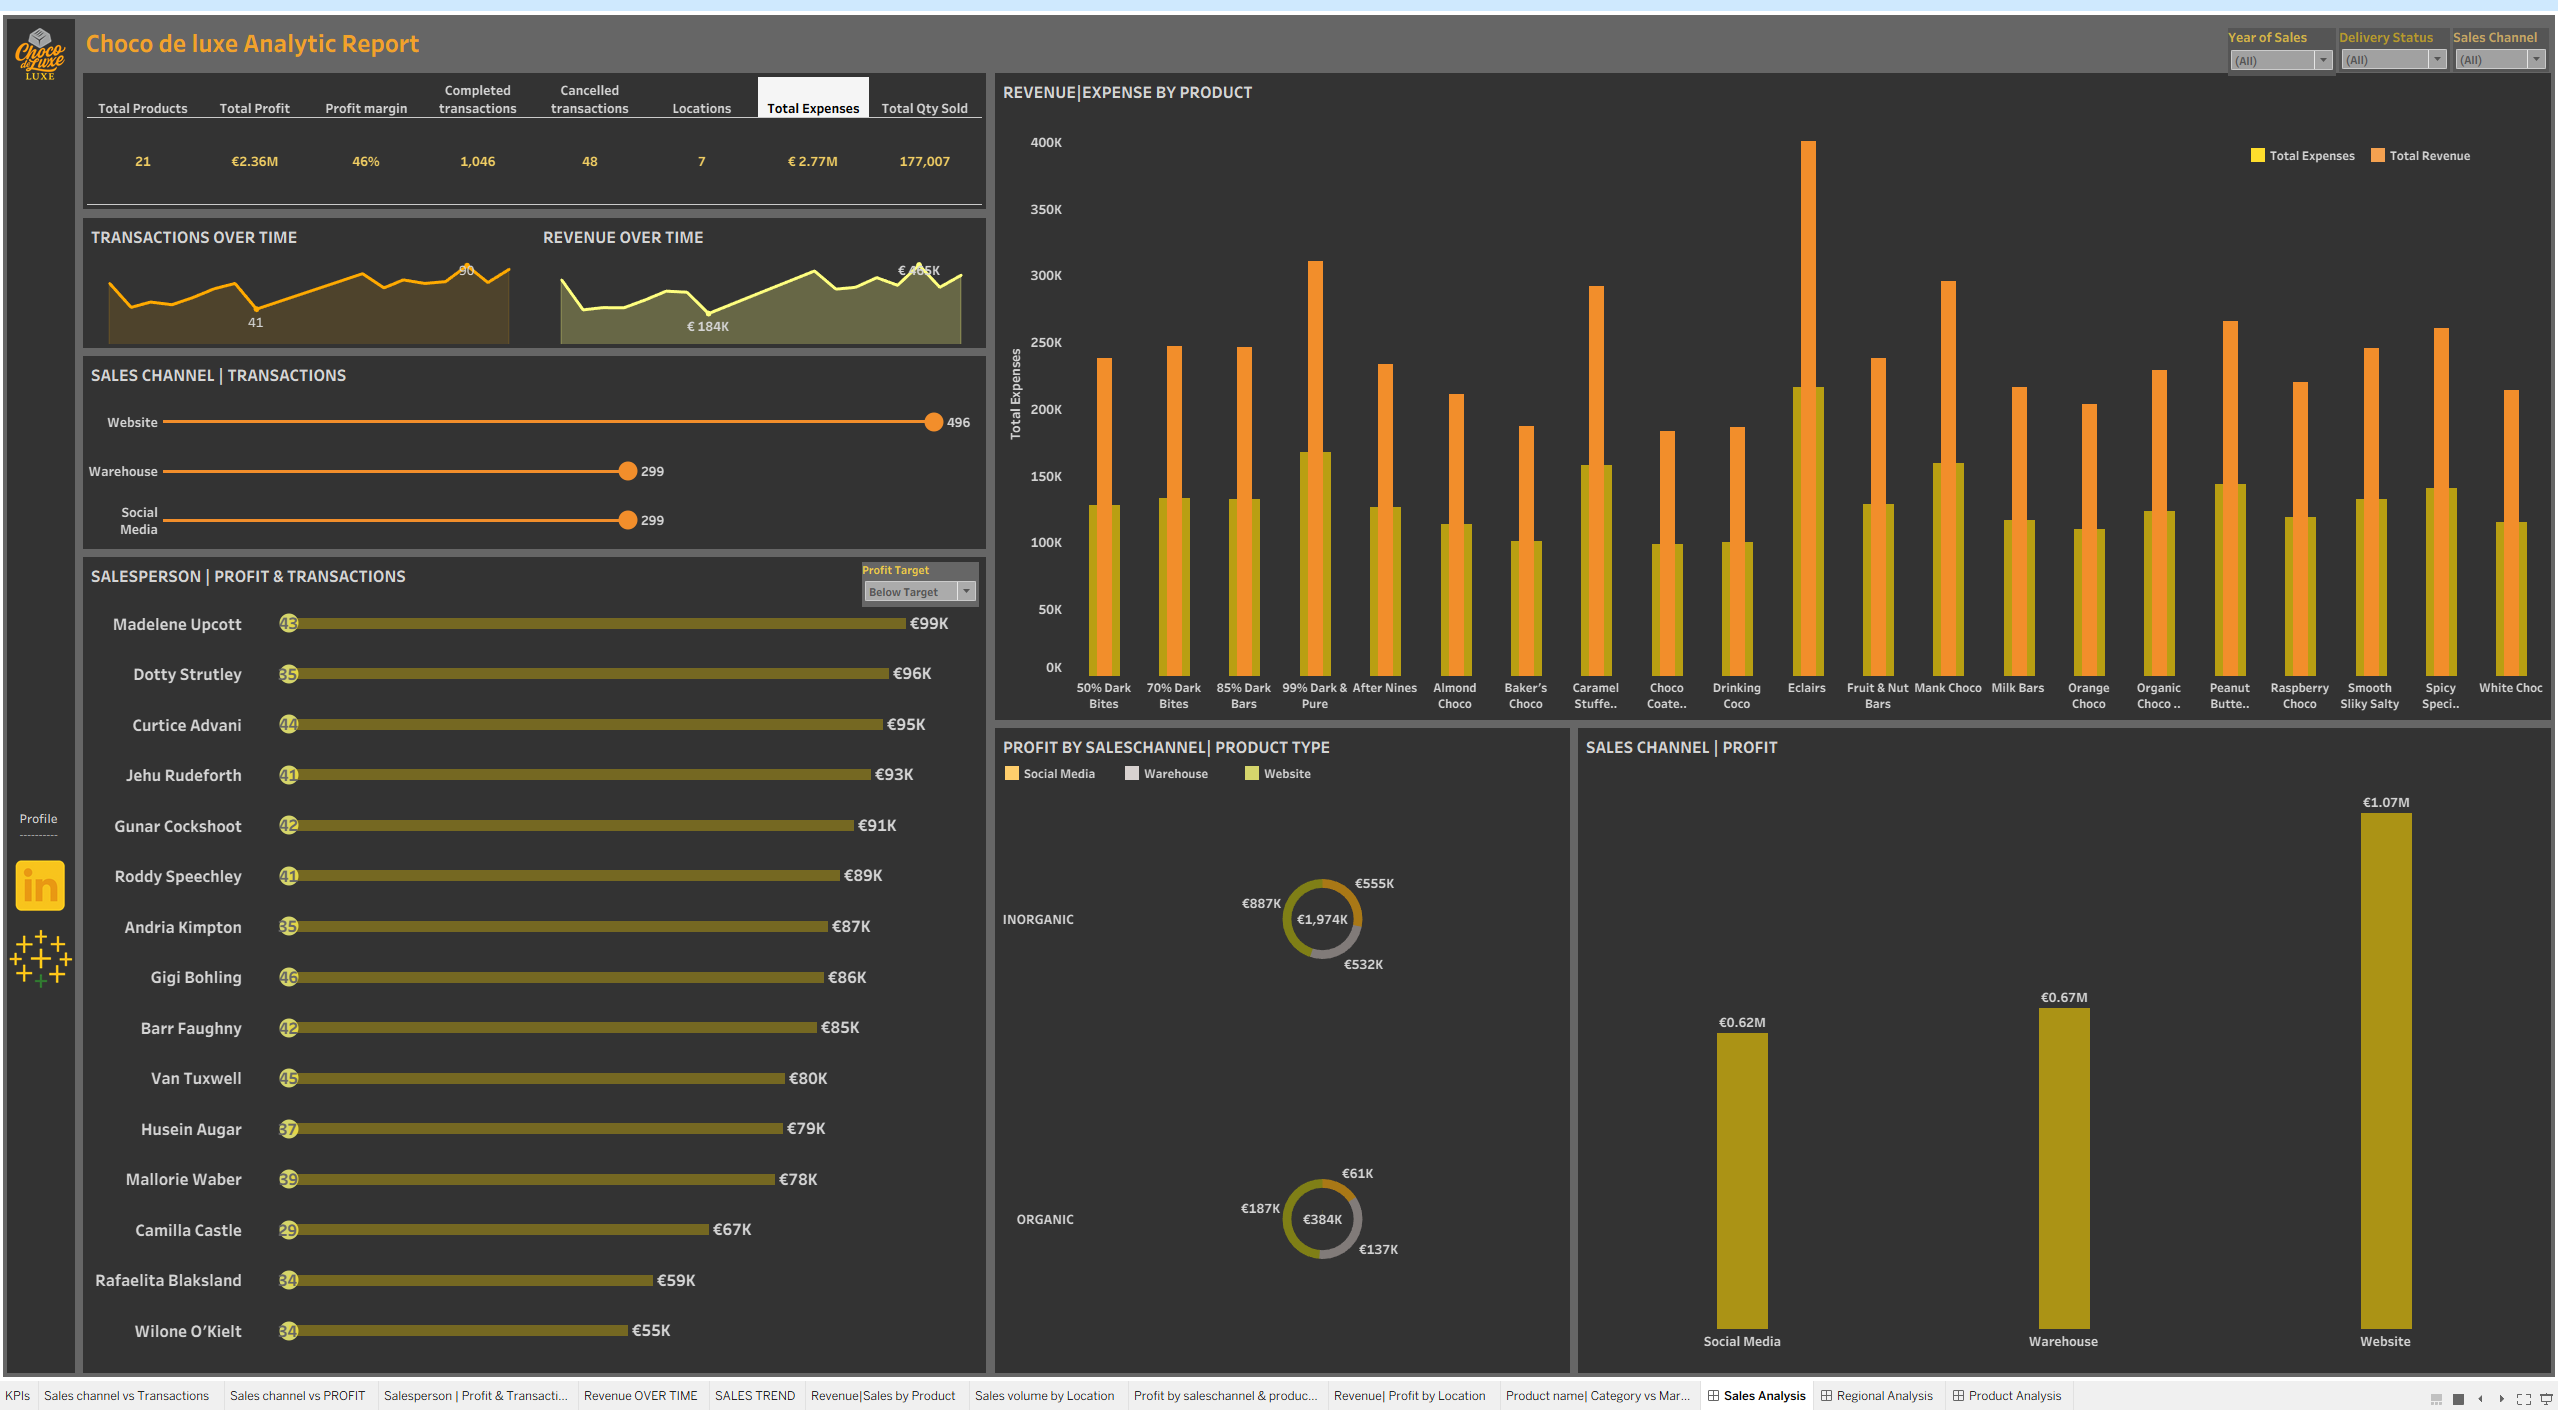

Layout of this report page (visuals, bound fields, positions):
{"tool":"tableau","page":{"name":"Sales Analysis","canvas":[1000,1000],"units":"permille","ordinal":2},"visuals":[{"type":"title","box":[31.4,3.3,966.9,39.4]},{"type":"image","param":"Image/Copilot_20250723_212216.png","box":[1.7,7.4,28.5,56]},{"type":"filter","title":"Revenue|Sales by Product","param":"[federated.0eekawp0wyn1681bht6681838vjj].[yr:Date:ok]","box":[870.6,12.3,42.1,35.4]},{"type":"filter","title":"Sales channel vs Transactions","param":"[federated.0eekawp0wyn1681bht6681838vjj].[none:Delivery Status:nk]","box":[914.1,12.3,43.2,32.1]},{"type":"filter","title":"Revenue OVER TIME","param":"[federated.0eekawp0wyn1681bht6681838vjj].[none:Sales Channel:nk]","box":[958.6,12.3,37.6,32.1]},{"type":"worksheet","title":"KPIs","mark":"Automatic","box":[33.1,46,352.5,98.8]},{"type":"worksheet","title":"Revenue|Sales by Product","mark":"Bar","rows":["Calculation_2393381760626753542","Calculation_2393381760619601923"],"cols":["Product Name"],"box":[389.1,46,607.5,470.9]},{"type":"legend","title":"Revenue|Sales by Product","param":"[federated.0eekawp0wyn1681bht6681838vjj].[:Measure Names]","box":[878.5,97.9,115.1,23.9]},{"type":"worksheet","title":"SALES TREND","mark":"Automatic","rows":["Calculation_2393381761688870936","Calculation_2393381761688870936"],"cols":["Date"],"box":[33.1,151.4,176.2,94.6]},{"type":"worksheet","title":"Revenue OVER TIME","mark":"Automatic","rows":["Calculation_2393381760619601923","Calculation_2393381760619601923"],"cols":["Date"],"box":[209.4,151.4,176.2,94.6]},{"type":"worksheet","title":"Sales channel vs Transactions","mark":"Automatic","rows":["Sales Channel"],"cols":["Calculation_2393381760618373120","Calculation_2393381760618373120"],"box":[33.1,252.6,352.5,139.9]},{"type":"worksheet","title":"Salesperson | Profit & Transactions","mark":"Bar","rows":["SalesPerson Name"],"cols":["Calculation_2393381761688870936","Calculation_2393381760627785735"],"box":[33.1,399.1,352.5,594.4]},{"type":"filter","title":"Salesperson | Profit & Transactions","param":"[federated.0eekawp0wyn1681bht6681838vjj].[usr:Calculation_2393381760951513096:nk","box":[337.2,402.5,45.6,32.9]},{"type":"worksheet","title":"Profit by saleschannel & product type","mark":"Pie","rows":["Is_Organic"],"cols":["Calculation_2393381761249722389","Calculation_2393381761249722389"],"box":[389.1,523.4,224.4,470]},{"type":"worksheet","title":"Sales channel vs PROFIT","mark":"Automatic","rows":["Calculation_2393381760627785735"],"cols":["Sales Channel"],"box":[616.8,523.4,379.8,470]},{"type":"legend","title":"Profit by saleschannel & product type","param":"[federated.0eekawp0wyn1681bht6681838vjj].[none:Sales Channel:nk]","box":[391.7,549,156.2,28]},{"type":"text","box":[6.9,581.9,21.5,28]},{"type":"image","param":"Image/LINKEDIN ICON (2).png","box":[3.9,618.9,23.8,37.9]},{"type":"image","param":"Image/tABLEAU ICON (2).png","box":[3.4,665.8,25.3,52.7]}]}

Visuals, with their boxes on the dashboard's canvas, which has no fixed pixel size, in thousandths of its width and height (x1, y1, x2, y2). These are canvas units, not pixel positions in the 2558x1410 screenshot, which may show the page scaled, cropped or inside an application window:
title: rect(31, 3, 998, 43)
image: rect(2, 7, 30, 63)
"Revenue|Sales by Product" filter: rect(871, 12, 913, 48)
"Sales channel vs Transactions" filter: rect(914, 12, 957, 44)
"Revenue OVER TIME" filter: rect(959, 12, 996, 44)
"KPIs" worksheet: rect(33, 46, 386, 145)
"Revenue|Sales by Product" worksheet (Bar marks): rect(389, 46, 997, 517)
"Revenue|Sales by Product" legend: rect(878, 98, 994, 122)
"SALES TREND" worksheet: rect(33, 151, 209, 246)
"Revenue OVER TIME" worksheet: rect(209, 151, 386, 246)
"Sales channel vs Transactions" worksheet: rect(33, 253, 386, 392)
"Salesperson | Profit & Transactions" worksheet (Bar marks): rect(33, 399, 386, 994)
"Salesperson | Profit & Transactions" filter: rect(337, 402, 383, 435)
"Profit by saleschannel & product type" worksheet (Pie marks): rect(389, 523, 614, 993)
"Sales channel vs PROFIT" worksheet: rect(617, 523, 997, 993)
"Profit by saleschannel & product type" legend: rect(392, 549, 548, 577)
text: rect(7, 582, 28, 610)
image: rect(4, 619, 28, 657)
image: rect(3, 666, 29, 718)
